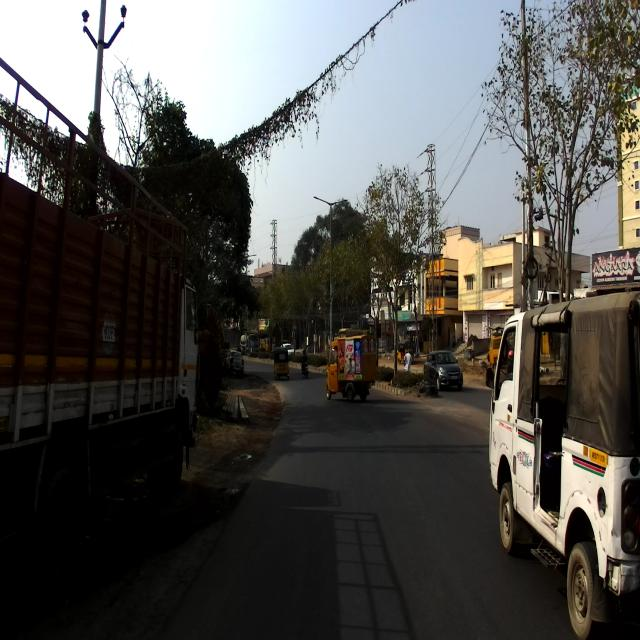auto ahead at: (320, 323, 382, 411)
car ahead at: (490, 300, 640, 623)
truck ahead at: (1, 62, 217, 549)
